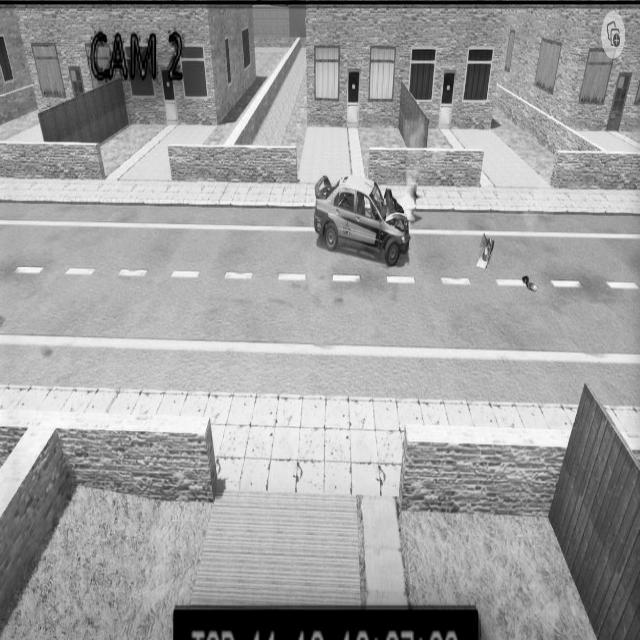accident: (312, 168, 413, 268)
